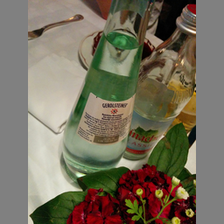water: (61, 1, 150, 188)
